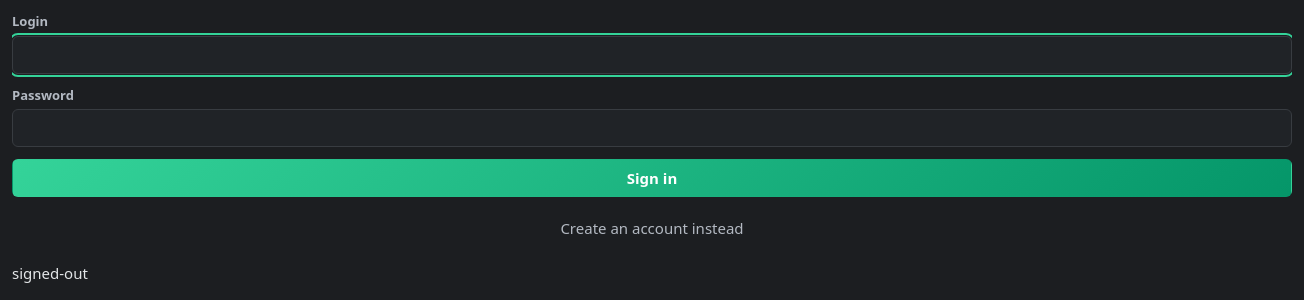
PasswordAuthForm › registering a fresh login signs in automatically
Click the button "Create an account instead". click: (652, 228)
box: [12, 209, 1292, 247]
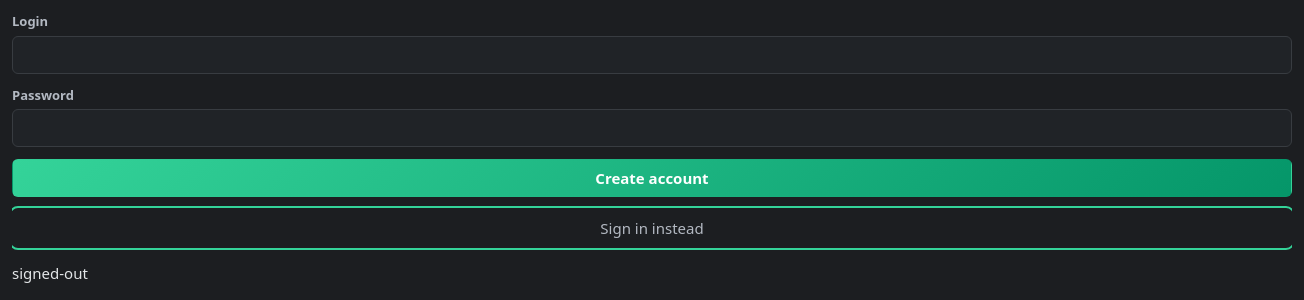
Type "brand-new-login" into the field labelled "Login". click: (652, 54)
box: [12, 36, 1292, 74]
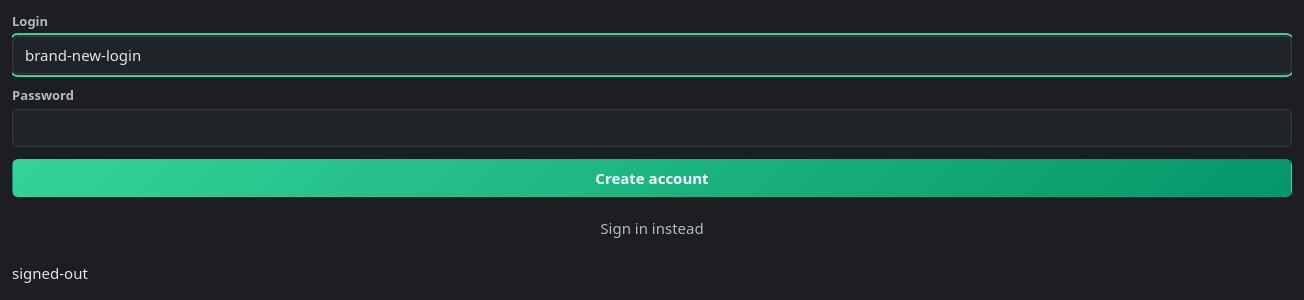
Type "some-password" into the password field labelled "Password". click: (652, 128)
box: [12, 109, 1292, 147]
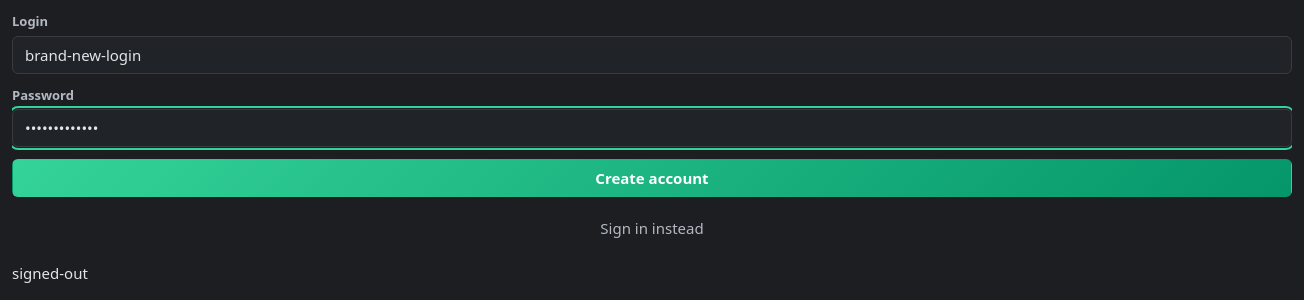
Click the button "Create account". click: (652, 178)
box: [12, 159, 1292, 197]
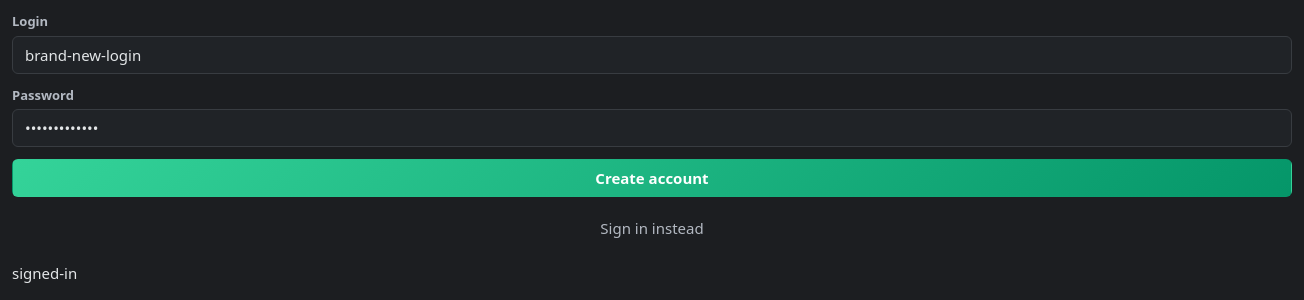
Check: the text with test id "probe" reads "signed-in", box [12, 263, 77, 283]
